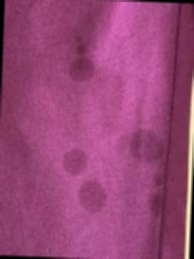oil: (125, 136, 165, 165), (64, 44, 93, 81), (76, 182, 107, 216), (141, 169, 163, 215), (67, 147, 86, 173)
